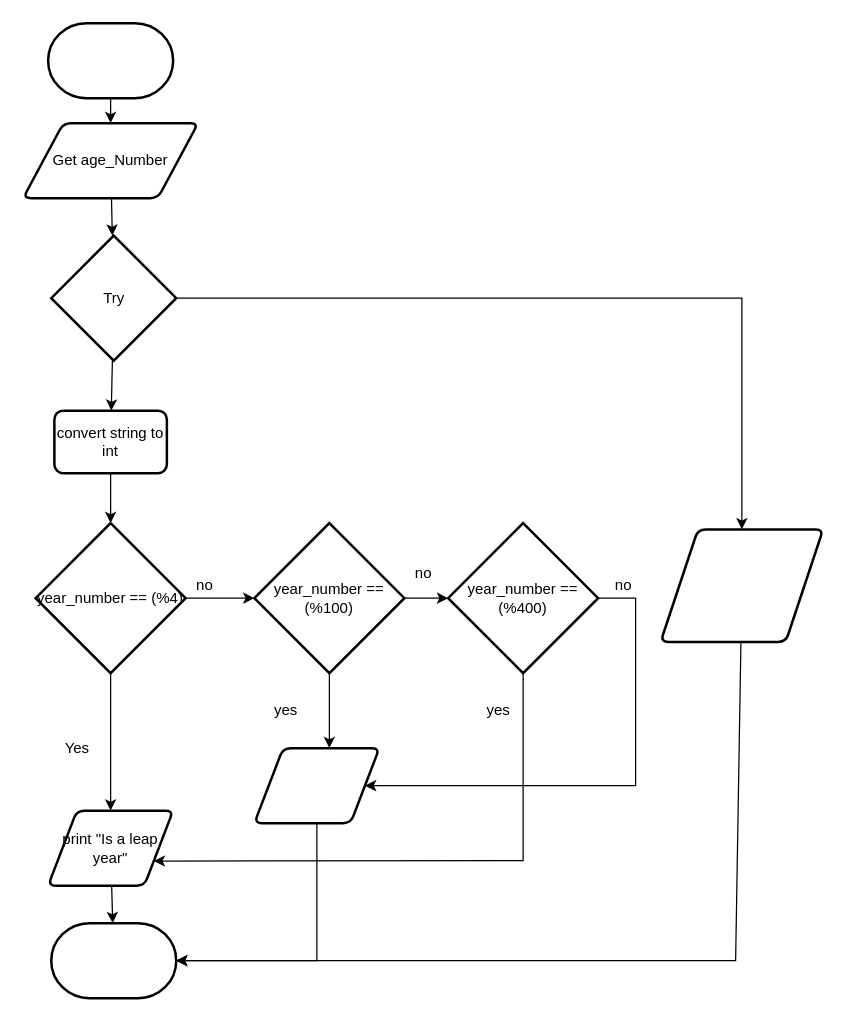
This 845x1020 diagram has some shape labels left out. Here are the shapes that lost their labels. From the top down, the box of each, then its label:
(46, 21, 174, 99): Start
(659, 528, 824, 642): print "Invalid Year, not accepted."
(252, 746, 380, 824): print "Is not a leap year"
(49, 921, 177, 999): Stop
